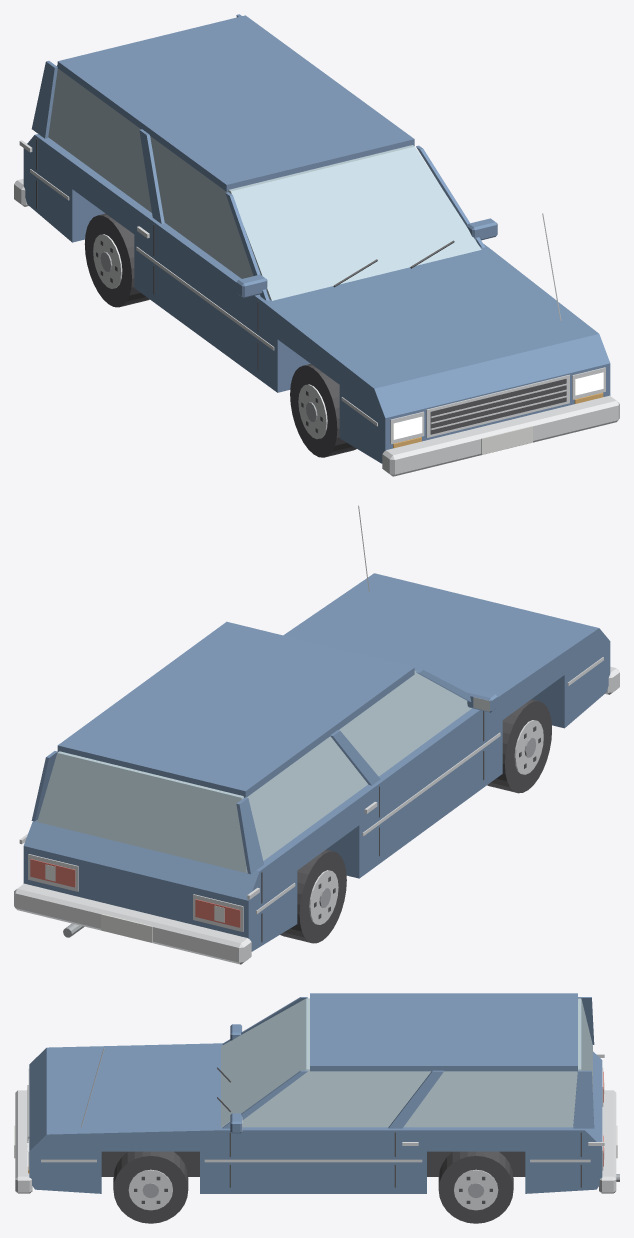
File: car_wagon_b.glb
The picture shows the model from 3 angles, top to bottom: view 1: azimuth 30°, elevation 25°; view 2: azimuth 150°, elevation 25°; view 3: azimuth 270°, elevation 25°; orthographic projection. The views are drawn at different scales.
Visible parts, largest first — view 1: car_wagon_b_car_b, car_wagon_b_glass, car_wagon_b_chrome, car_wagon_b_rubber, car_wagon_b_dark, car_wagon_b_lamp_glass, car_wagon_b_paint_w; view 2: car_wagon_b_car_b, car_wagon_b_glass, car_wagon_b_chrome, car_wagon_b_rubber, car_wagon_b_neon_r, car_wagon_b_paint_w; view 3: car_wagon_b_car_b, car_wagon_b_glass, car_wagon_b_rubber, car_wagon_b_chrome, car_wagon_b_dark, car_wagon_b_steel.
Boxes of the visible parts, x1,y1,x2,y2 form: car_wagon_b_car_b: [23, 14, 610, 463]; car_wagon_b_glass: [48, 64, 481, 300]; car_wagon_b_chrome: [14, 140, 619, 476]; car_wagon_b_rubber: [84, 213, 356, 457]; car_wagon_b_dark: [36, 138, 566, 434]; car_wagon_b_lamp_glass: [393, 372, 603, 439]; car_wagon_b_paint_w: [481, 426, 532, 454]; car_wagon_b_car_b: [23, 573, 610, 951]; car_wagon_b_glass: [37, 671, 471, 872]; car_wagon_b_chrome: [14, 505, 619, 964]; car_wagon_b_rubber: [280, 699, 551, 943]; car_wagon_b_neon_r: [30, 859, 240, 927]; car_wagon_b_paint_w: [45, 864, 224, 942]; car_wagon_b_car_b: [29, 993, 602, 1193]; car_wagon_b_glass: [221, 998, 592, 1127]; car_wagon_b_rubber: [101, 1151, 525, 1223]; car_wagon_b_chrome: [15, 1048, 616, 1210]; car_wagon_b_dark: [27, 1067, 581, 1203]; car_wagon_b_steel: [142, 1174, 619, 1197].
Size of the model in its own units: 2 by 1.6 by 5.18.
